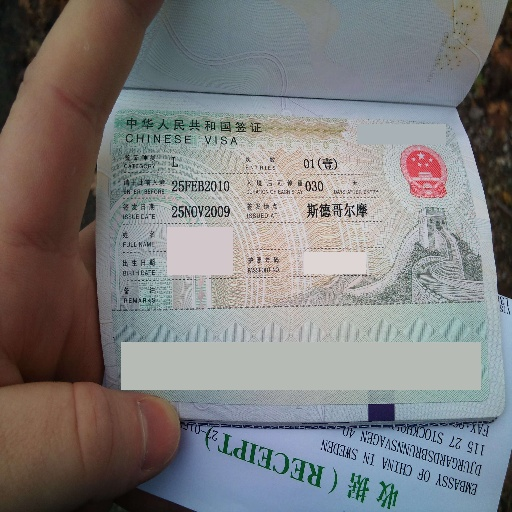hand: (0, 0, 190, 511)
